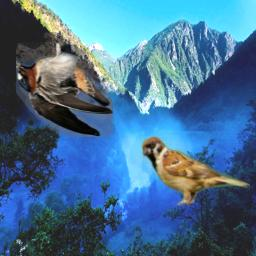Sparrow: (138, 134, 250, 207)
Swallow: (16, 32, 113, 137)
